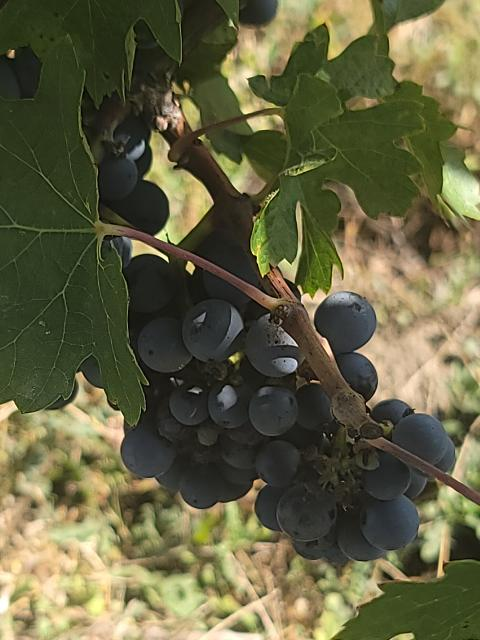grapes: (245, 314, 428, 561), (121, 254, 264, 509)
